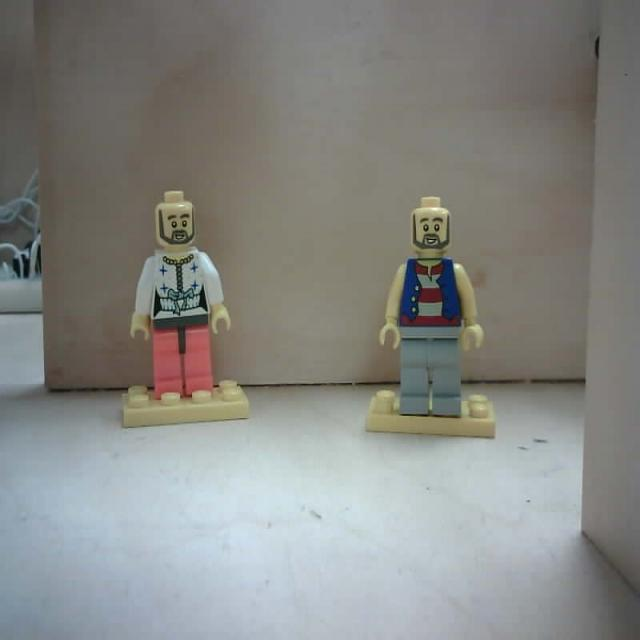Lego-People: (365, 196, 498, 438), (117, 192, 248, 429)
